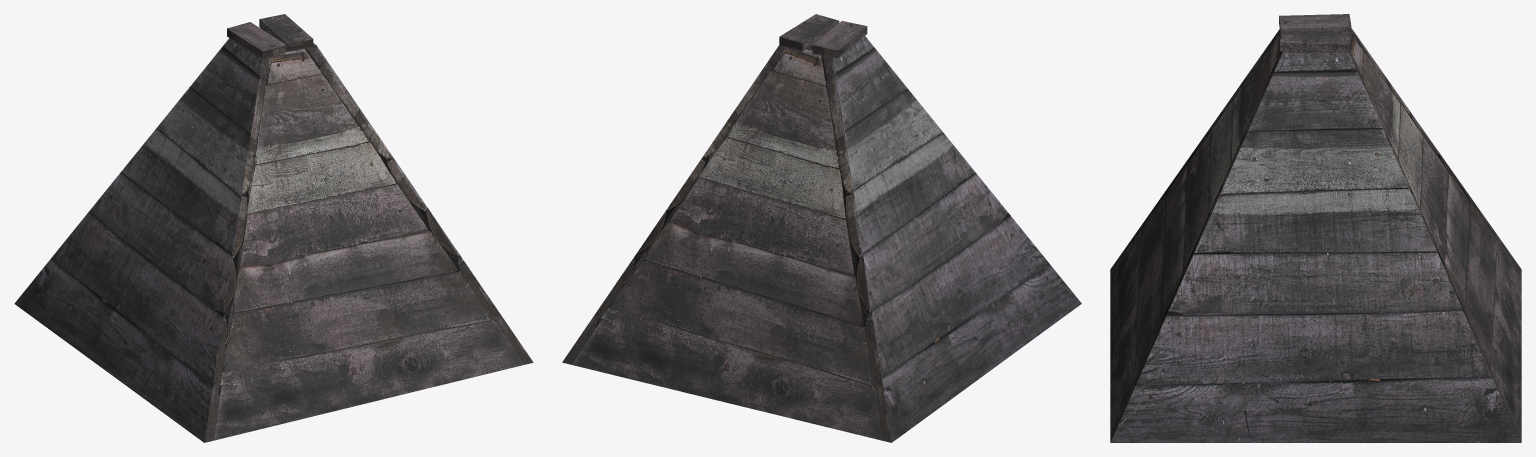
File: DangerPyramid.FBX
3 views of the same model, side by side, from view 1: azimuth 30°, elevation 25°; view 2: azimuth 150°, elevation 25°; view 3: azimuth 270°, elevation 25° (orthographic). The views are drawn at different scales.
Visible parts, largest first — view 1: DangerPyramid; view 2: DangerPyramid; view 3: DangerPyramid.
Boxes of the visible parts, left/top/right/bottom form: DangerPyramid: left=14, top=14, right=533, bottom=442; DangerPyramid: left=562, top=14, right=1081, bottom=442; DangerPyramid: left=1110, top=14, right=1521, bottom=442.
Bounding box in the file's own units: 70 × 61.63 × 70.
